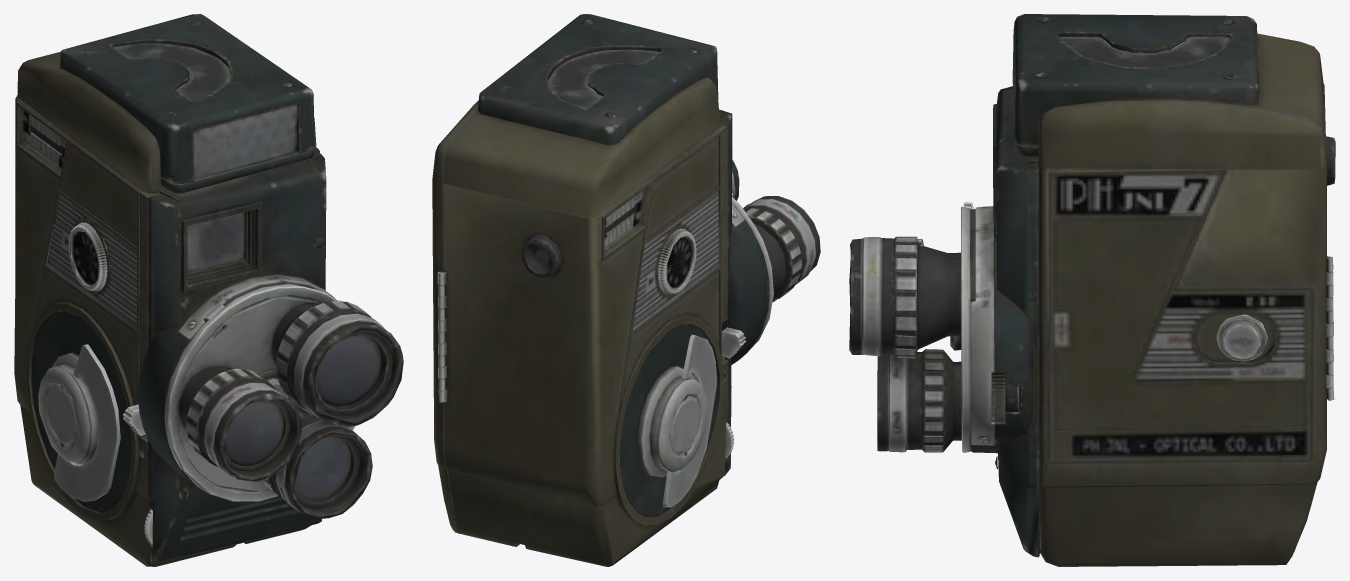
Rendered from vintage_video_camera.glb.
3 views of the same model, side by side, from view 1: azimuth 30°, elevation 25°; view 2: azimuth 150°, elevation 25°; view 3: azimuth 270°, elevation 25° (orthographic). The views are drawn at different scales.
Parts seen in each view (by area): view 1: vintage_video_camera; view 2: vintage_video_camera; view 3: vintage_video_camera.
Part boxes in pixels (x1,y1,x2,y2): vintage_video_camera: [14, 14, 403, 566]; vintage_video_camera: [432, 14, 820, 566]; vintage_video_camera: [849, 14, 1335, 566].
Size of the model in its own units: 0.0712 by 0.1448 by 0.1325.
2 materials, 2 textured.
